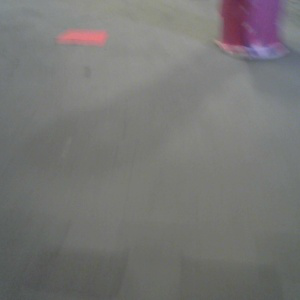right: (208, 1, 297, 61)
